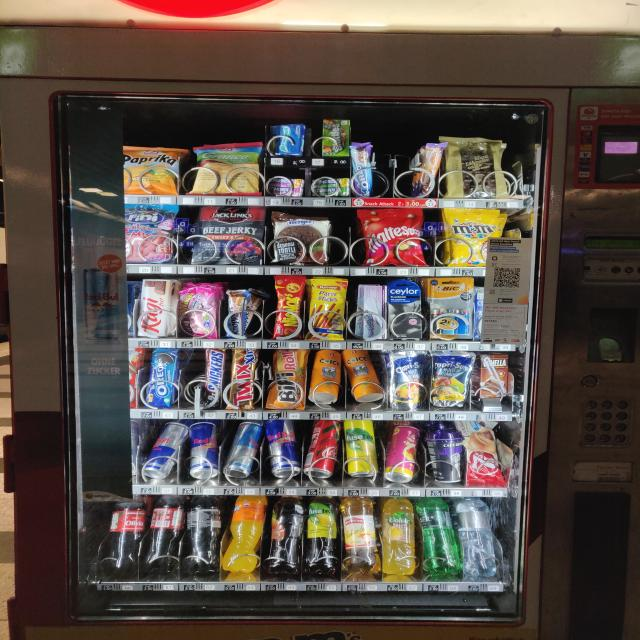7days_croissantschoko_packung_80_1_0000000000003: (464, 426, 503, 485)
airwaves_menthoneucalyptus_riegel_14_1_50173167: (270, 124, 306, 156)
bifi_roll__50__4251097402635: (264, 349, 309, 413)
c-swiss_dosenabisicetea__33__9120025930135: (308, 347, 346, 406), (346, 351, 384, 404)
caferoyal_classicmacchiato__33__7617014164487: (424, 426, 468, 484)
caprisun_multivitamin__20__4000177605004: (429, 349, 474, 410), (387, 354, 432, 409)
coke__dose_33__54491472: (299, 420, 343, 480)
coke__flasche_50__54491472: (96, 494, 144, 576), (145, 494, 186, 571)
coke_zero_flasche_50__5449000131836: (178, 496, 225, 573)
comella_schokodrink__33__7613100037253: (476, 351, 514, 401)
fanta___50__40822938: (216, 494, 266, 573)
fini_galaxymix_packung_100_1_8410525150364: (124, 204, 178, 263)
fini_jellykisses_packung_80_1_8410525116704: (176, 284, 223, 338)
fuse_lemon__50__5449000235947: (304, 496, 342, 577)
fuse_lemon_dose_33__5449000235947: (346, 419, 381, 478)
fuse_peach__50__5449000236623: (266, 494, 306, 576)
jacklinks_beefjerkyorginal__25__4047751730219: (193, 206, 266, 264)
jlbrichard_gauffrechoko__90__5410495002079: (436, 133, 509, 199)
kagi___50__7610046000259: (135, 275, 175, 338)
knoppers_riegel____4035800488808: (223, 288, 262, 338)
lorenz_nicnacs__40__4018077798818: (271, 274, 305, 341)
malburner_partysticks__40__7610200279682: (307, 279, 351, 342)
maltesers___100__5000159023061: (356, 207, 427, 266)
mnms_gelb__45__40111445: (442, 208, 504, 266)
oreo___66__84100733: (142, 348, 182, 407)
ramseier_schorle__50__7610057012456: (344, 496, 384, 574)
redbull___33__90162909: (137, 422, 183, 478), (264, 420, 304, 479), (186, 423, 223, 480)
redbull_light__33__90162800: (224, 419, 265, 478)
skittles_sour_riegel_51_1_0000000000004: (316, 115, 356, 160)
snickers___50__5000159461122: (201, 350, 229, 408)
stimorol_spearmint_riegel_14_1_0000000000005: (314, 178, 350, 194)
stimorol_wildcherry_riegel_14_1_57060330: (268, 177, 306, 198)
tiki_himbeer_brause__50__00000000009342: (382, 423, 422, 485)
twix___50__5000159459228: (222, 347, 260, 411)
valser_classic__50__76404160: (418, 498, 464, 576)
valser_still__50__7610335002575: (456, 498, 497, 576)
volvic_pinapple__50__305764335648: (384, 495, 418, 575)
zweifel_graneochilli__100__7610095184009: (190, 138, 264, 196)
zweifel_paprika__90__7610095013002: (120, 145, 184, 195)
